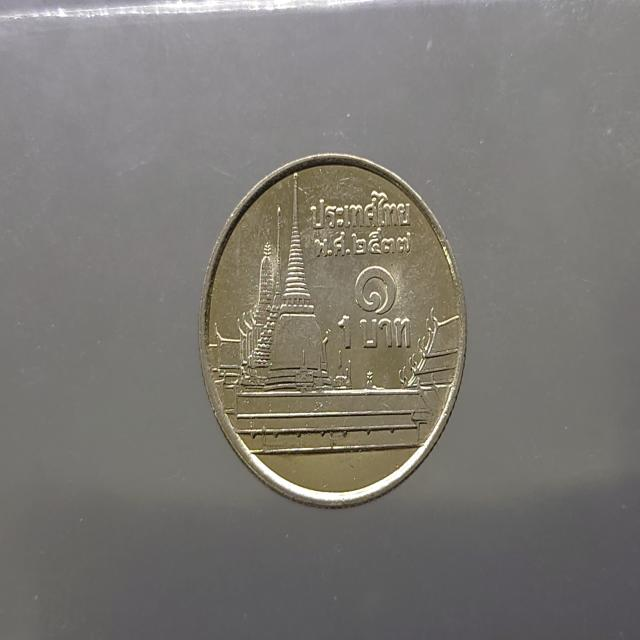1 Bath: (193, 145, 477, 518)
